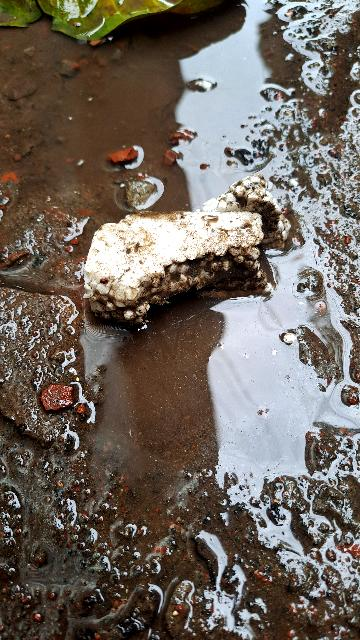cocksheet: (74, 189, 287, 335)
